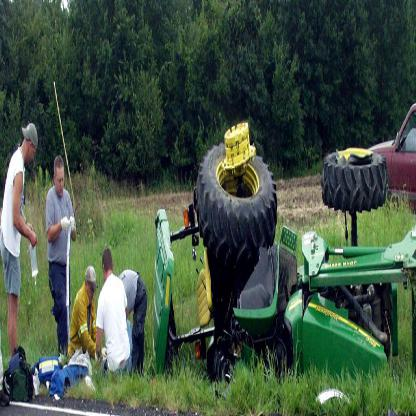face: (57, 170, 65, 198), (28, 144, 37, 167), (88, 281, 95, 305)
